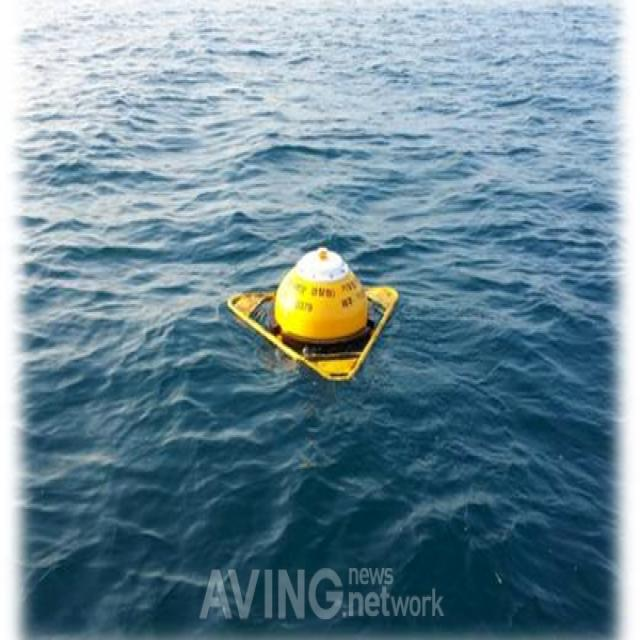2.5 sepcial mark: (231, 224, 405, 395)
